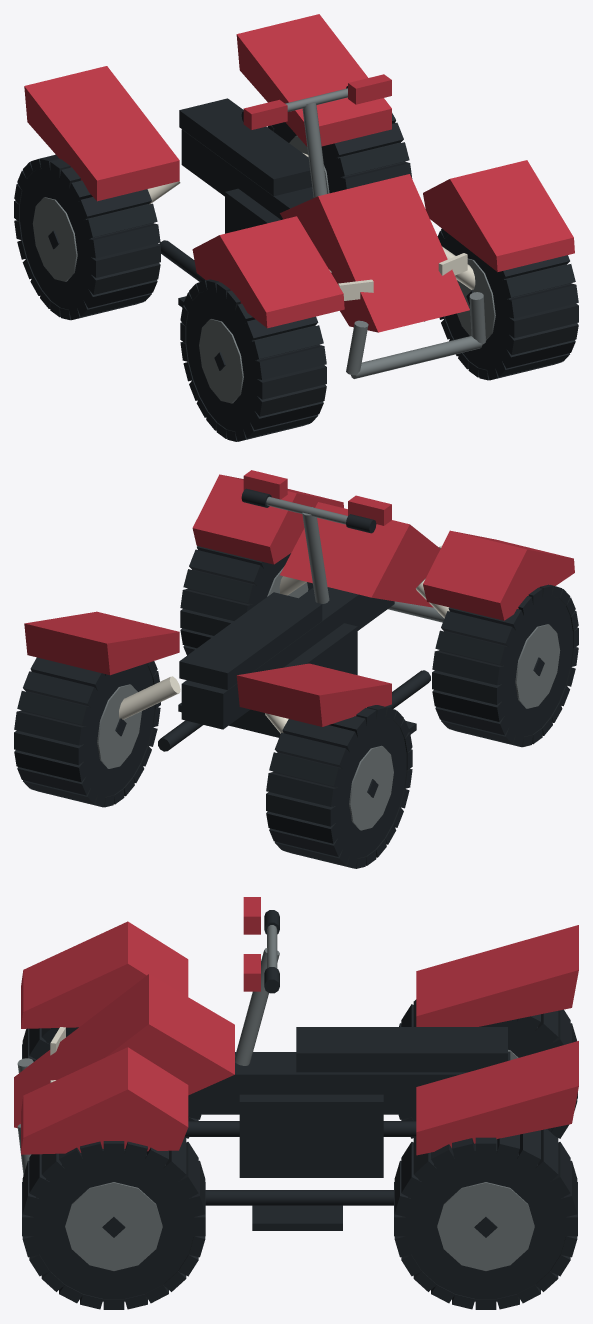
The model's file is atv.glb.
3 views of the same model, one above another, from view 1: azimuth 30°, elevation 25°; view 2: azimuth 150°, elevation 25°; view 3: azimuth 270°, elevation 25° (orthographic). The views are drawn at different scales.
Parts seen in each view (by area): view 1: tread (×24), fender.rear (×2), fender.front (×2), body.nose, atv.spin.1, atv.spin.3, seat.cushion, atv.spin.0, body.spine, handguard (×2), bumper.bar, bumper.side (×2) (+5 smaller); view 2: tread (×27), fender.front (×2), fender.rear (×2), body.nose, atv.spin.3, atv.spin.1, seat.cushion, atv.spin.2, body.spine, body.engine, handguard (×2), frame.rail (×2) (+5 smaller); view 3: fender.front (×2), fender.rear (×2), atv.spin.2, atv.spin.0, body.nose, body.engine, seat.cushion, tread (×13), body.spine, frame.rail (×2), foot.platform, handlebar.stem (+2 smaller).
Part boxes in pixels (x1=…): tread (×24): x1=77, y1=122, x2=578, y2=438; fender.rear (×2): x1=24, y1=14, x2=391, y2=201; fender.front (×2): x1=192, y1=160, x2=574, y2=328; body.nose: x1=280, y1=174, x2=469, y2=332; atv.spin.1: x1=186, y1=290, x2=319, y2=431; atv.spin.3: x1=20, y1=169, x2=153, y2=309; seat.cushion: x1=179, y1=98, x2=312, y2=196; atv.spin.0: x1=442, y1=234, x2=571, y2=369; body.spine: x1=181, y1=129, x2=313, y2=219; handguard (×2): x1=243, y1=74, x2=391, y2=129; bumper.bar: x1=351, y1=336, x2=482, y2=378; bumper.side (×2): x1=346, y1=292, x2=485, y2=375; tread (×27): x1=14, y1=549, x2=515, y2=865; fender.front (×2): x1=192, y1=474, x2=574, y2=620; fender.rear (×2): x1=24, y1=611, x2=391, y2=726; body.nose: x1=280, y1=502, x2=440, y2=607; atv.spin.3: x1=273, y1=717, x2=406, y2=858; atv.spin.1: x1=439, y1=596, x2=572, y2=736; seat.cushion: x1=179, y1=592, x2=322, y2=689; atv.spin.2: x1=21, y1=663, x2=154, y2=796; body.spine: x1=181, y1=587, x2=394, y2=729; body.engine: x1=229, y1=623, x2=357, y2=737; handguard (×2): x1=243, y1=470, x2=391, y2=525; frame.rail (×2): x1=158, y1=670, x2=430, y2=751; fender.front (×2): x1=21, y1=921, x2=188, y2=1154; fender.rear (×2): x1=416, y1=925, x2=578, y2=1155; atv.spin.2: x1=405, y1=1139, x2=566, y2=1301; atv.spin.0: x1=33, y1=1149, x2=194, y2=1301; body.nose: x1=14, y1=974, x2=234, y2=1128; body.engine: x1=239, y1=1094, x2=383, y2=1177; seat.cushion: x1=296, y1=1027, x2=507, y2=1072; tread (×13): x1=22, y1=1011, x2=577, y2=1216; body.spine: x1=188, y1=1052, x2=510, y2=1114; frame.rail (×2): x1=184, y1=1121, x2=416, y2=1205; foot.platform: x1=252, y1=1205, x2=342, y2=1230; handlebar.stem: x1=235, y1=948, x2=279, y2=1065.
Size of the model in its own units: 1.78 by 1.37 by 2.43.
